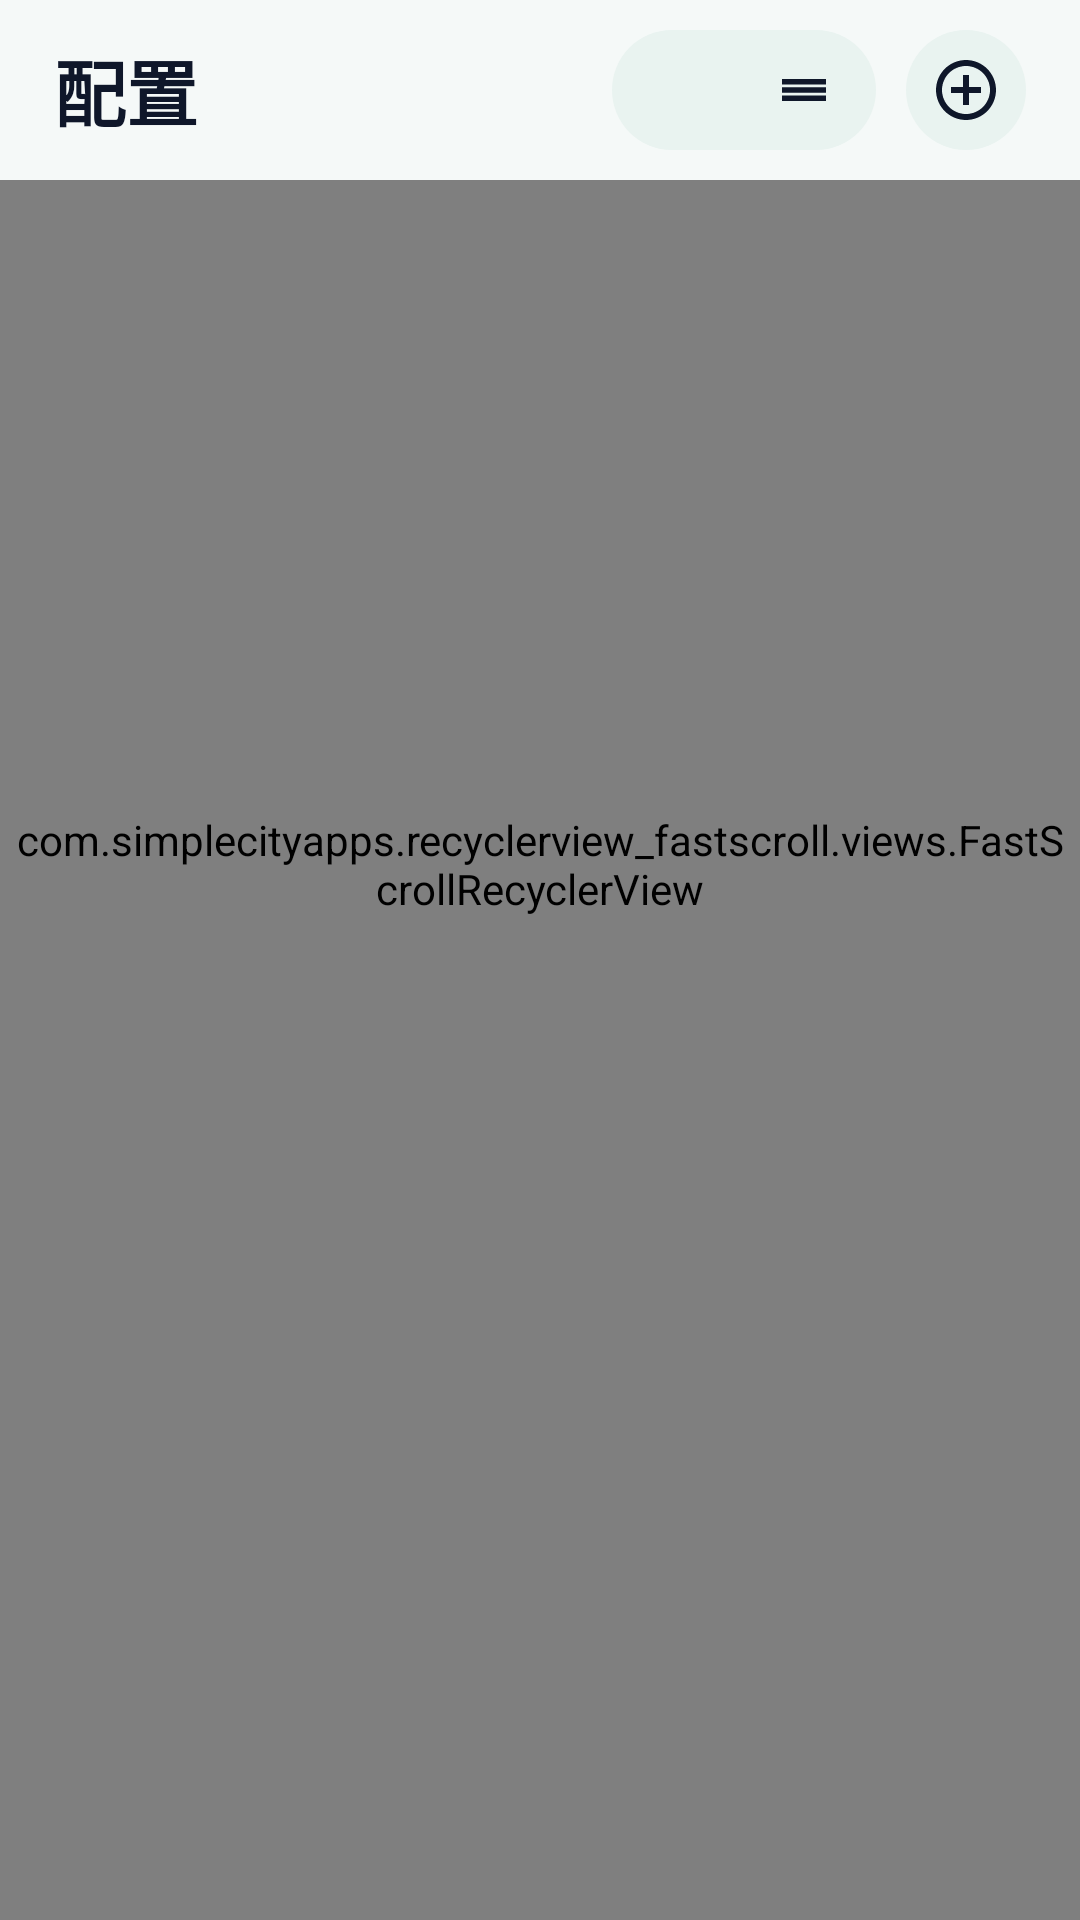

Screen size 1080px×1920px. Icon name, then its box in pixels as (x1, y1, x2, y2):
Create group: (906, 30, 1026, 150)
